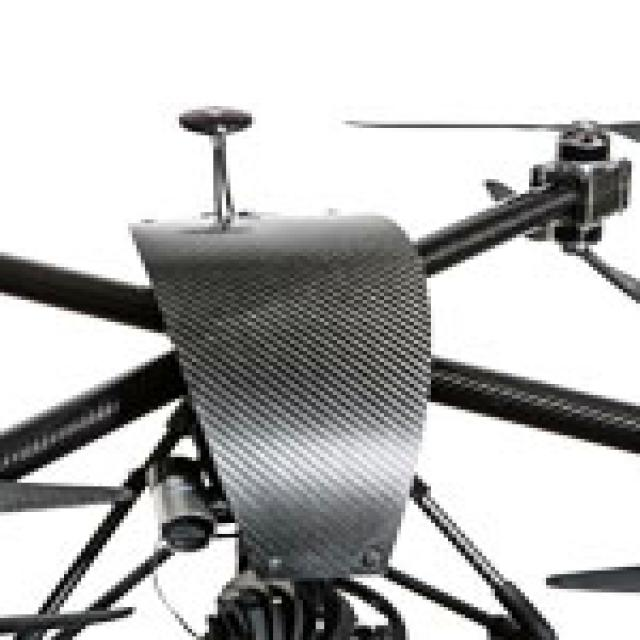drone: (0, 69, 640, 640)
